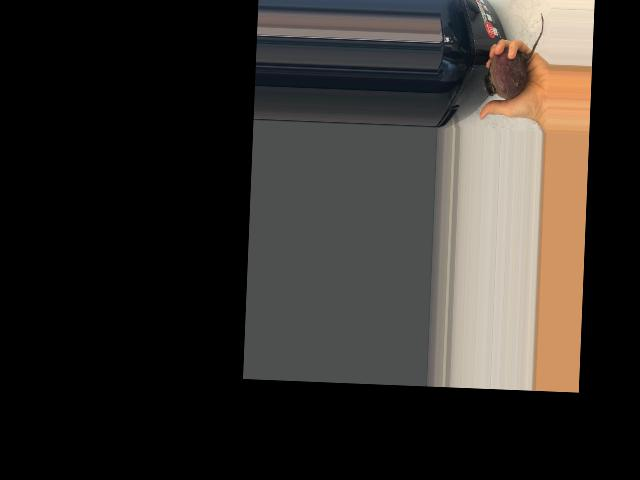beet: (483, 10, 544, 99)
